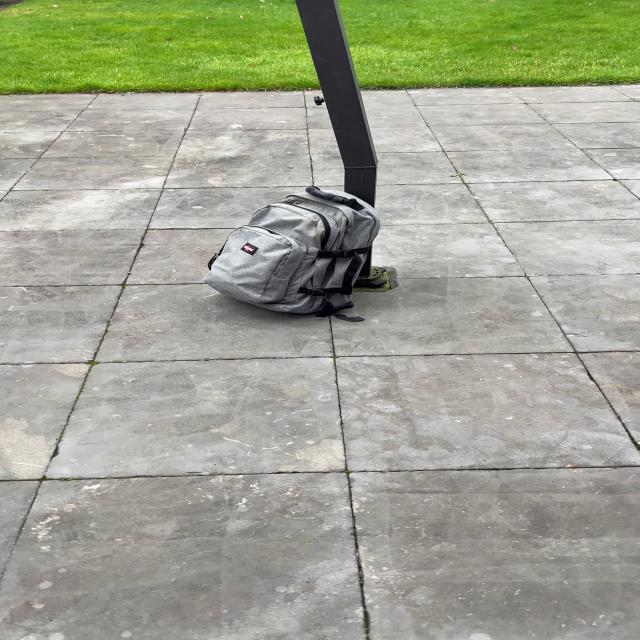backpack: (196, 183, 389, 319)
